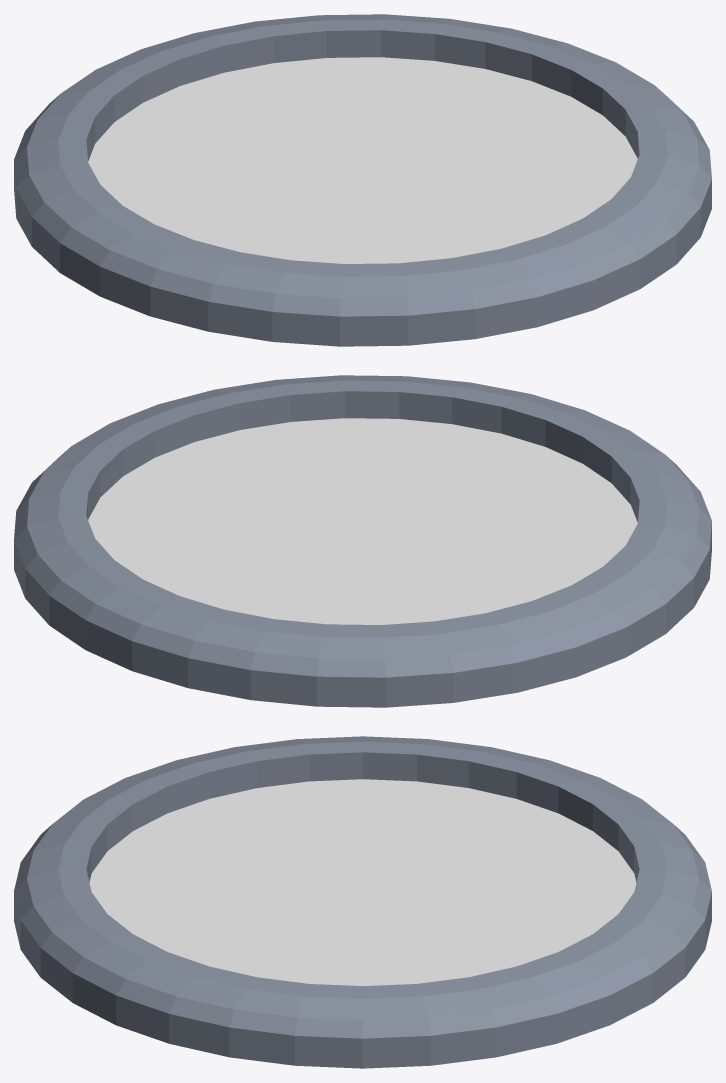
Rendered from power_up_spawner.fbx.
The picture shows the model from 3 angles, top to bottom: view 1: azimuth 30°, elevation 25°; view 2: azimuth 150°, elevation 25°; view 3: azimuth 270°, elevation 25°; orthographic projection.
Visible parts, largest first — view 1: PowerUpSpawner; view 2: PowerUpSpawner; view 3: PowerUpSpawner.
Part boxes in pixels (x1=…): PowerUpSpawner: x1=14, y1=14, x2=711, y2=346; PowerUpSpawner: x1=14, y1=375, x2=711, y2=707; PowerUpSpawner: x1=14, y1=736, x2=711, y2=1068.
Bounding box in the file's own units: 78.91 × 6.47 × 78.91.
